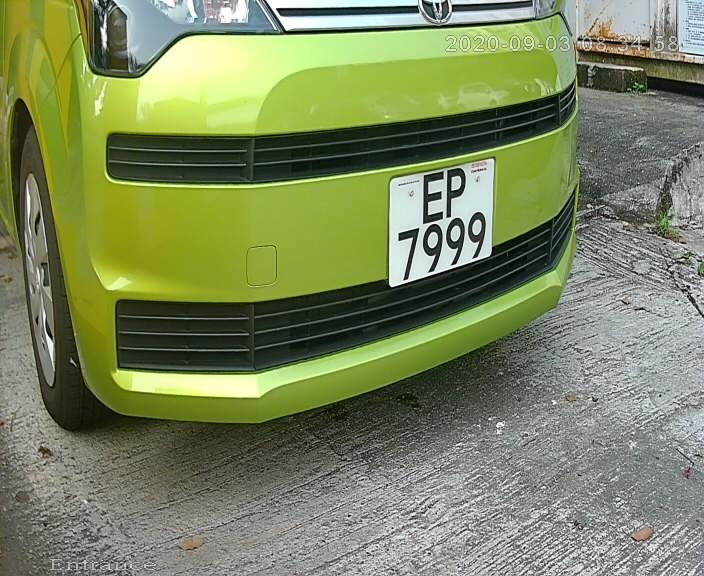License Plate: (384, 155, 500, 296)
